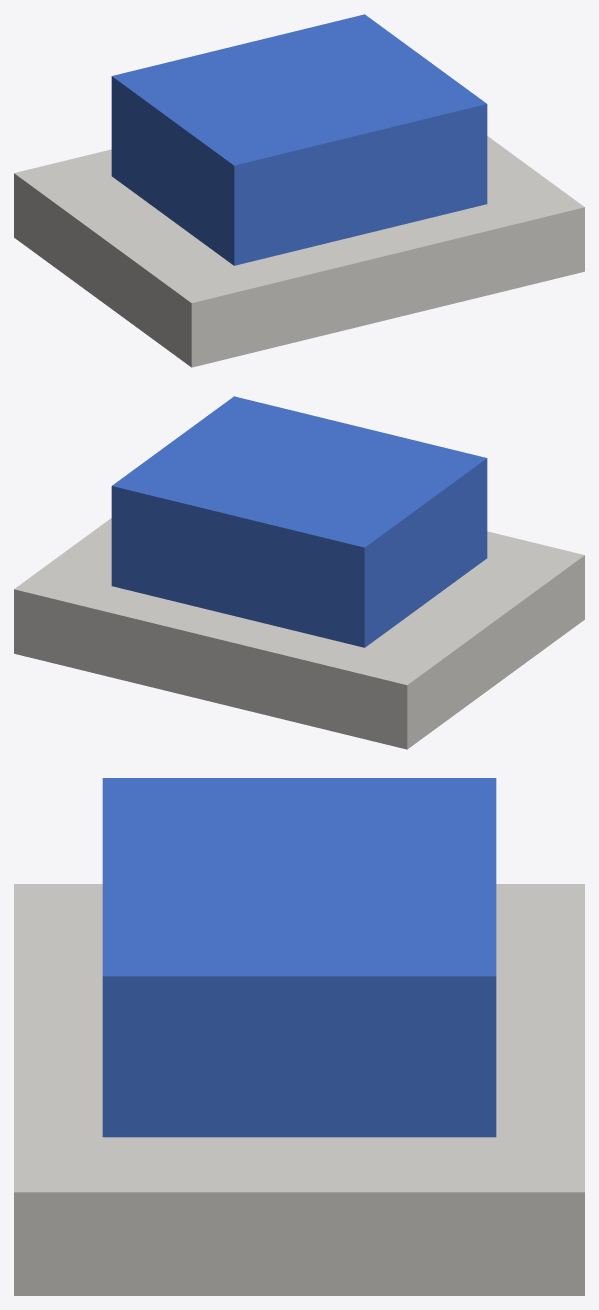
Rendered from bookshelf-lv1.glb.
3 renders of one model, top to bottom at view 1: azimuth 30°, elevation 25°; view 2: azimuth 150°, elevation 25°; view 3: azimuth 270°, elevation 25°, orthographic. The views are drawn at different scales.
Visible parts, largest first — view 1: Level1, Base; view 2: Level1, Base; view 3: Level1, Base.
Boxes of the visible parts, bbox=[...] form: Level1: bbox=[111, 14, 487, 265]; Base: bbox=[14, 136, 584, 367]; Level1: bbox=[111, 396, 487, 647]; Base: bbox=[14, 518, 584, 749]; Level1: bbox=[102, 778, 496, 1137]; Base: bbox=[14, 884, 584, 1295].
Size of the model in its own units: 1.15 by 0.46 by 0.9.
